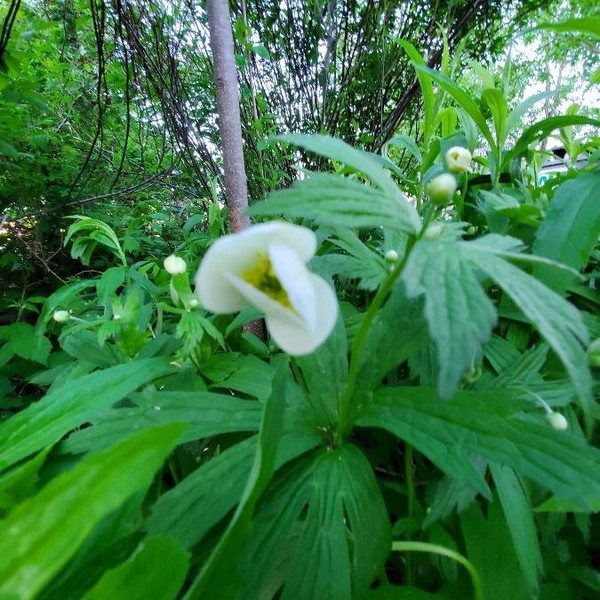obstacle: (53, 204, 406, 585), (318, 96, 584, 524)
